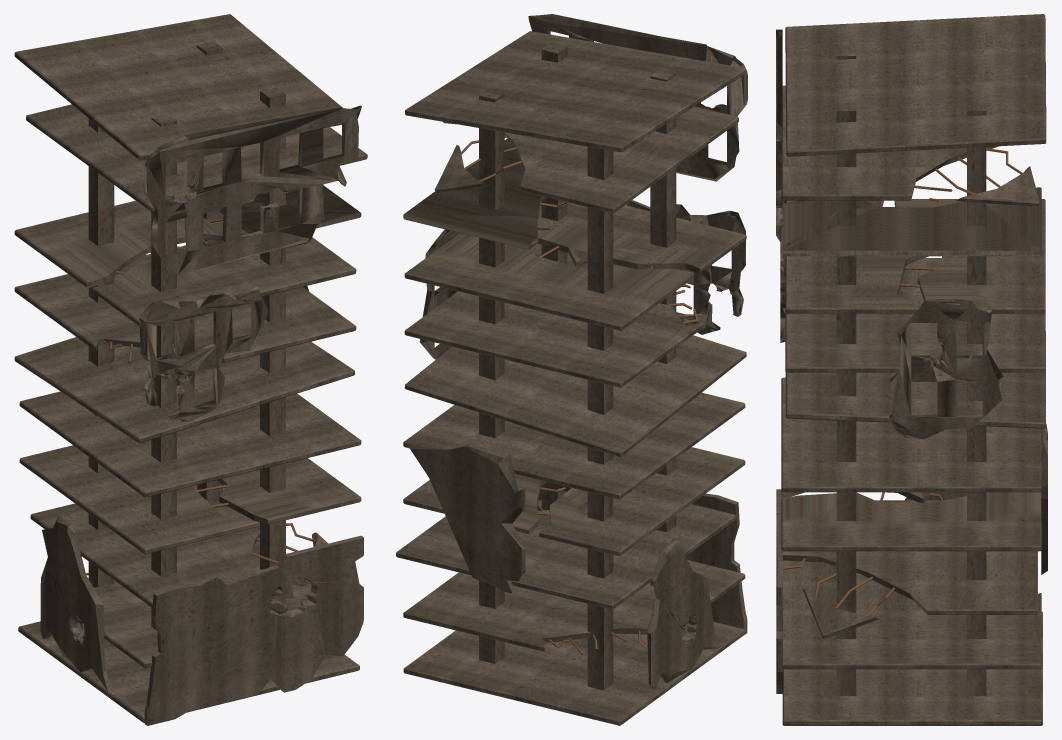
The model's file is ruined_building.glb.
3 renders of one model, left to right at view 1: azimuth 30°, elevation 25°; view 2: azimuth 150°, elevation 25°; view 3: azimuth 270°, elevation 25°, orthographic. The views are drawn at different scales.
Visible parts, largest first — view 1: ruined_building; view 2: ruined_building; view 3: ruined_building.
Part boxes in pixels (<box>): ruined_building: <box>14,14,367,725</box>; ruined_building: <box>396,14,747,725</box>; ruined_building: <box>776,14,1047,725</box>.
Size of the model in its own units: 2.13 by 5.11 by 2.09.
1 material, 1 textured.
